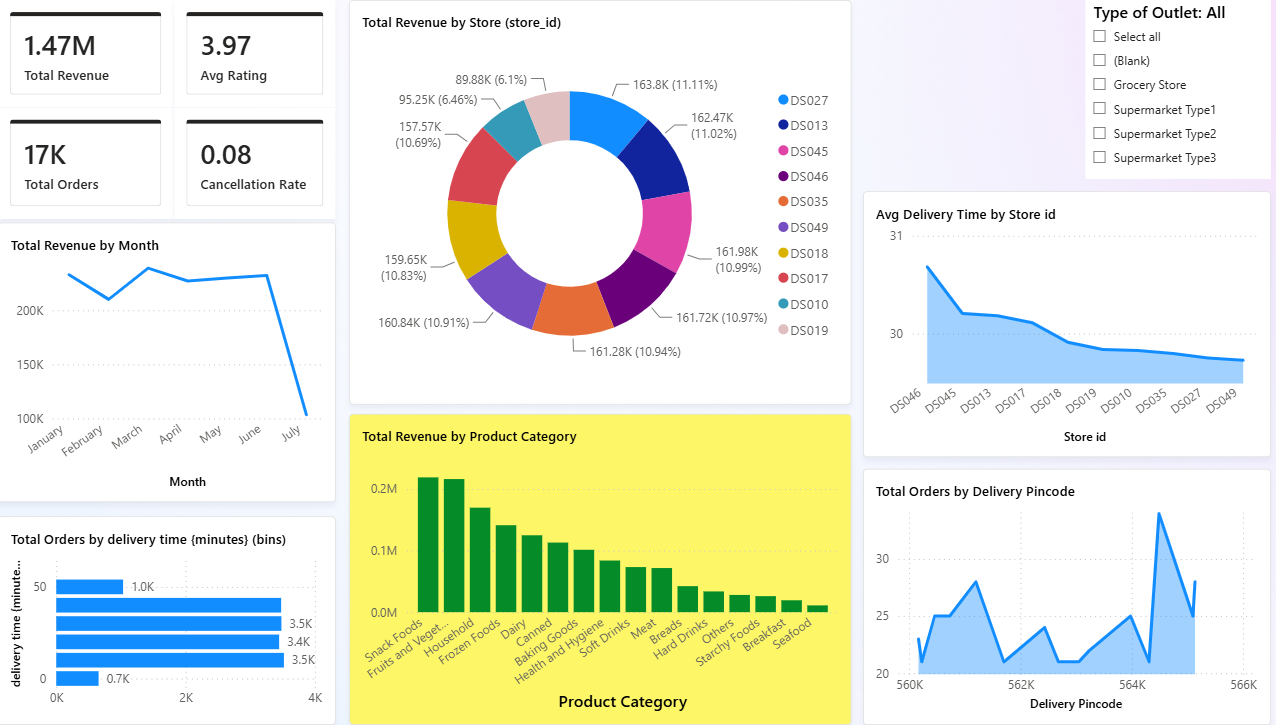

The dashboard page shown, as its layout file describes it:
{"tool":"powerbi","page":{"name":"Page 1","canvas":[1280,720],"ordinal":0},"visuals":[{"type":"cardVisual","fields":{"Data":["blinkit_project orders.Total Revenue"]},"box":[0,0,174.9,106.7],"z":0},{"type":"cardVisual","fields":{"Data":["blinkit_project orders.Total Orders"]},"box":[0,106.7,174.9,110.4],"z":1000},{"type":"cardVisual","fields":{"Data":["blinkit_project orders.Avg Rating"]},"box":[174.9,0,160,106.7],"z":2000},{"type":"cardVisual","fields":{"Data":["blinkit_project orders.Cancellation Rate"]},"box":[174.9,106.7,160,110.4],"z":3000},{"type":"lineChart","fields":{"Category":["blinkit_project orders.order_timestamp.Variation.Date Hierarchy.Month"],"Y":["blinkit_project orders.Total Revenue"]},"box":[0,220.8,334.9,277.9],"z":4000},{"type":"slicer","fields":{"Values":["blinkit_project stores.outlet_type"]},"box":[1079.3,0,183.6,177.4],"z":5000},{"type":"donutChart","fields":{"Category":["blinkit_project stores.store_id"],"Y":["blinkit_project orders.Total Revenue"]},"box":[348.6,0,498.7,401.9],"z":6000},{"type":"areaChart","fields":{"Category":["blinkit_project stores.store_id"],"Y":["blinkit_project orders.Avg Delivery Time"]},"box":[858.5,189.8,404.4,264.2],"z":7000},{"type":"lineClusteredColumnComboChart","fields":{"Category":["blinkit_project products.product_category"],"Y":["blinkit_project orders.Total Revenue"]},"box":[348.6,410.6,498.7,308.9],"z":8000},{"type":"barChart","fields":{"Category":["blinkit_project orders.delivery_time_minutes (bins)"],"Y":["blinkit_project orders.Total Orders"]},"box":[0,512.3,334.9,207.2],"z":9000},{"type":"areaChart","fields":{"Category":["blinkit_project customers.delivery_pincode"],"Y":["blinkit_project orders.Total Orders"]},"box":[858.5,465.2,404.4,254.3],"z":10000}]}

Visuals, with their boxes in screenshot pixels (x1, y1, x2, y2), scaled from the page's 1280x720 canvas onto the 1276x725 screenshot:
cardVisual - blinkit_project orders.Total Revenue: box=[0, 0, 174, 107]
cardVisual - blinkit_project orders.Total Orders: box=[0, 107, 174, 219]
cardVisual - blinkit_project orders.Avg Rating: box=[174, 0, 334, 107]
cardVisual - blinkit_project orders.Cancellation Rate: box=[174, 107, 334, 219]
lineChart - blinkit_project orders.order_timestamp.Variation.Date Hierarchy.Month x blinkit_project orders.Total Revenue: box=[0, 222, 334, 502]
slicer - blinkit_project stores.outlet_type: box=[1076, 0, 1259, 179]
donutChart - blinkit_project stores.store_id x blinkit_project orders.Total Revenue: box=[348, 0, 845, 405]
areaChart - blinkit_project stores.store_id x blinkit_project orders.Avg Delivery Time: box=[856, 191, 1259, 457]
lineClusteredColumnComboChart - blinkit_project products.product_category x blinkit_project orders.Total Revenue: box=[348, 413, 845, 724]
barChart - blinkit_project orders.delivery_time_minutes (bins) x blinkit_project orders.Total Orders: box=[0, 516, 334, 724]
areaChart - blinkit_project customers.delivery_pincode x blinkit_project orders.Total Orders: box=[856, 468, 1259, 724]
